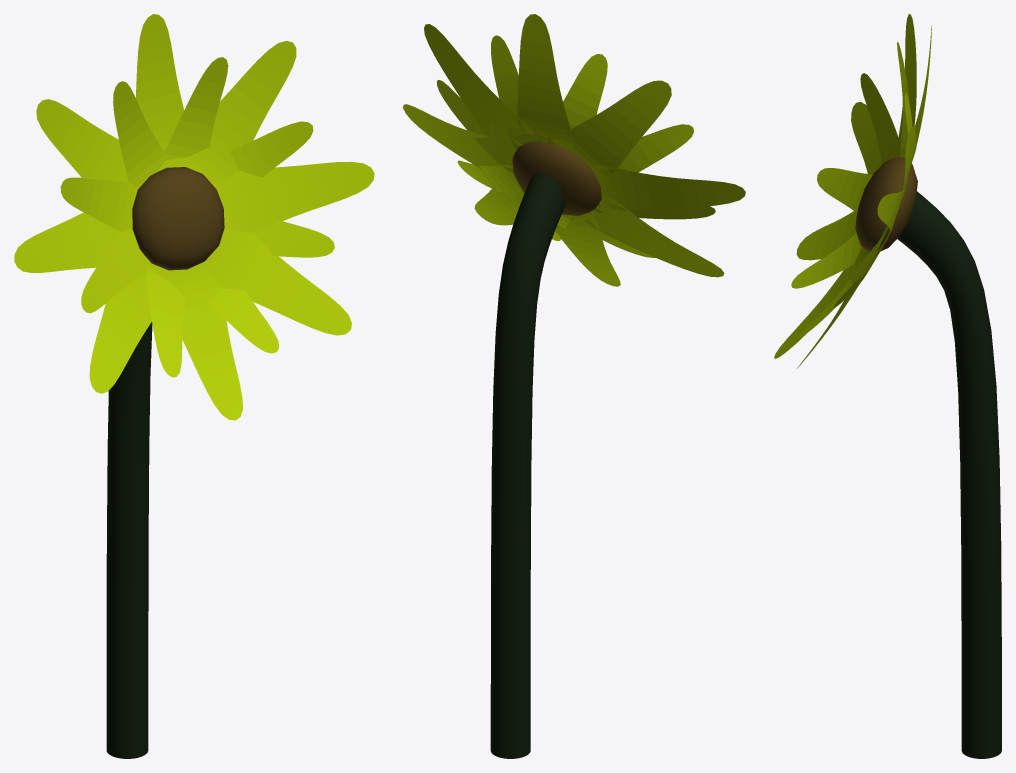
File: Flower.obj
3 renders of one model, left to right at view 1: azimuth 30°, elevation 25°; view 2: azimuth 150°, elevation 25°; view 3: azimuth 270°, elevation 25°, orthographic. The views are drawn at different scales.
Visible parts, largest first — view 1: Cube; view 2: Cube; view 3: Cube.
Part boxes in pixels (bbox=[...]): Cube: bbox=[14, 14, 374, 758]; Cube: bbox=[403, 14, 745, 758]; Cube: bbox=[774, 14, 1001, 758].
Bounding box in the file's own units: 1.8 × 3.6 × 1.03.
